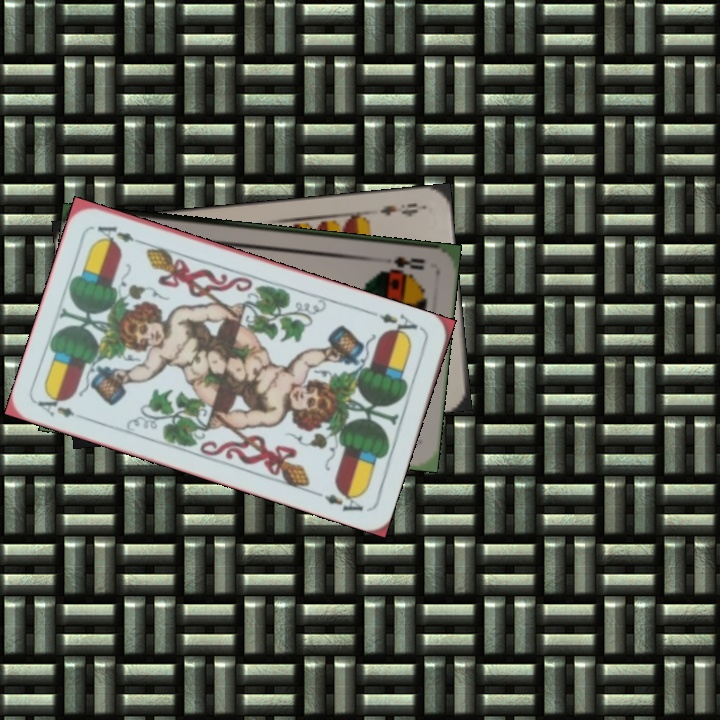E9: (376, 199, 426, 219)
EA: (368, 307, 426, 341), (33, 391, 91, 423)
SO: (386, 253, 428, 273)
